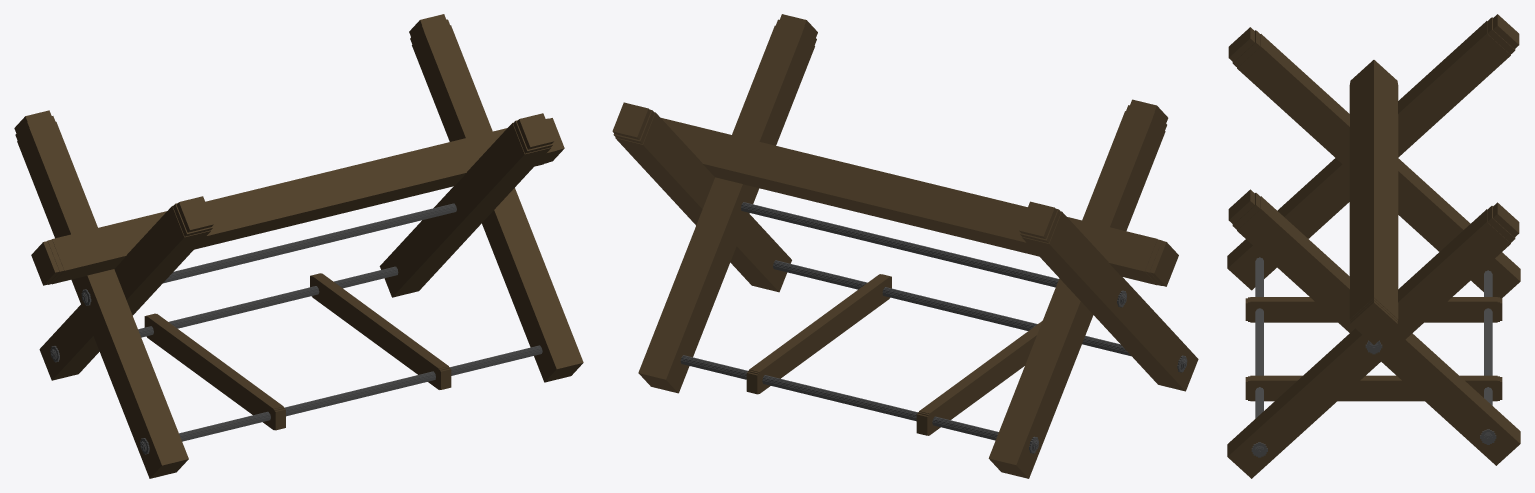
File: WeaponRack.fbx
3 views of the same model, side by side, from view 1: azimuth 30°, elevation 25°; view 2: azimuth 150°, elevation 25°; view 3: azimuth 270°, elevation 25° (orthographic). The views are drawn at different scales.
Parts seen in each view (by area): view 1: WoodenStick.004, WoodenStick, WoodenStick.002, WoodenStick.003, WoodenStick.001, WoodenFixer.001, WoodenFixer, MetalTube, MetalTube.002, MetalTube.001; view 2: WoodenStick.004, WoodenStick.003, WoodenStick.001, WoodenStick, WoodenStick.002, WoodenFixer.001, WoodenFixer, MetalTube.002, MetalTube.001, MetalTube; view 3: WoodenStick.002, WoodenStick.004, WoodenStick.003, WoodenStick.001, WoodenStick, WoodenFixer, WoodenFixer.001, MetalTube, MetalTube.001.
Boxes of the visible parts, box(x1,y1,x2,y2) form: WoodenStick.004: box(31, 118, 564, 285); WoodenStick: box(14, 110, 188, 478); WoodenStick.002: box(409, 14, 583, 382); WoodenStick.003: box(379, 113, 554, 297); WoodenStick.001: box(39, 196, 213, 380); WoodenFixer.001: box(310, 273, 451, 389); WoodenFixer: box(144, 313, 285, 430); MetalTube: box(179, 345, 542, 441); MetalTube.002: box(163, 203, 456, 283); MetalTube.001: box(138, 266, 398, 337); WoodenStick.004: box(661, 118, 1178, 286); WoodenStick.003: box(638, 14, 817, 393); WoodenStick.001: box(988, 99, 1168, 478); WoodenStick: box(1019, 201, 1198, 391); WoodenStick.002: box(612, 102, 791, 292); WoodenFixer.001: box(746, 274, 891, 394); WoodenFixer: box(916, 321, 1042, 435); MetalTube.002: box(741, 202, 1058, 287); MetalTube.001: box(680, 355, 998, 440); MetalTube: box(773, 260, 1131, 356); WoodenStick.002: box(1227, 202, 1519, 478); WoodenStick.004: box(1349, 60, 1398, 344); WoodenStick.003: box(1228, 189, 1520, 465); WoodenStick.001: box(1228, 27, 1520, 298); WoodenStick: box(1227, 14, 1519, 290); WoodenFixer: box(1245, 297, 1502, 322); WoodenFixer.001: box(1245, 375, 1502, 401); MetalTube: box(1255, 257, 1263, 418); MetalTube.001: box(1484, 270, 1492, 405).
Size of the model in its own units: 1.5 by 0.7627 by 0.7594.
